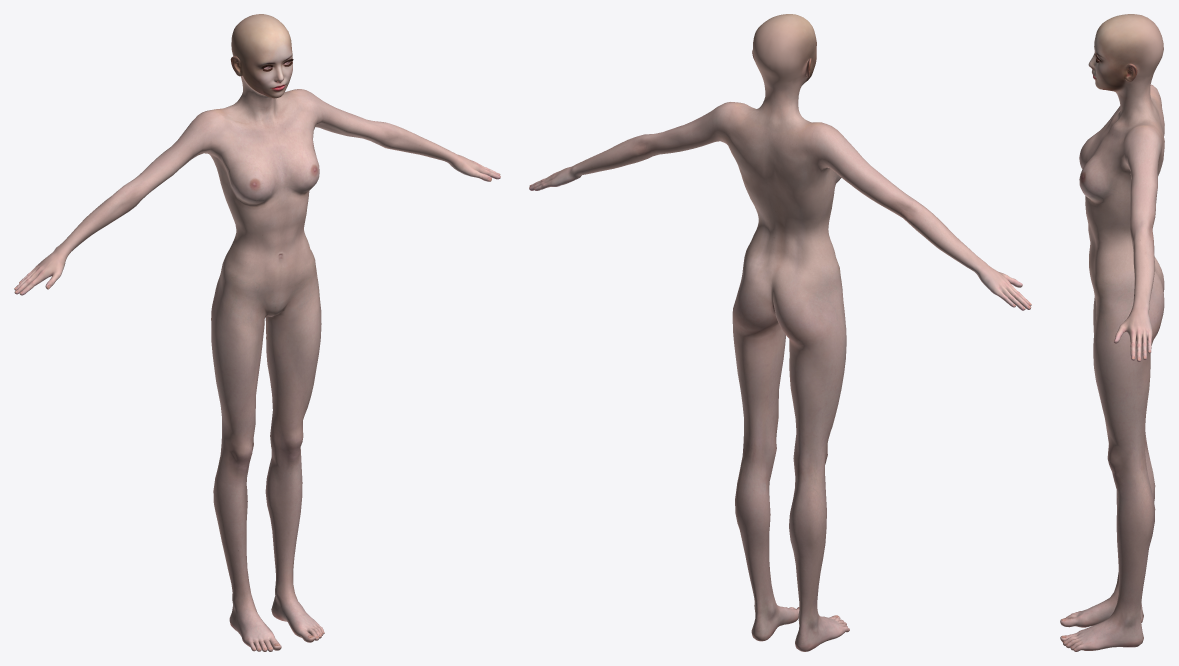
The picture shows the model from 3 angles, left to right: view 1: azimuth 30°, elevation 25°; view 2: azimuth 150°, elevation 25°; view 3: azimuth 270°, elevation 25°; orthographic projection. The views are drawn at different scales.
Visible parts, largest first — view 1: Base_Body; view 2: Base_Body; view 3: Base_Body.
Part boxes in pixels (x1,y1,x2,y2): Base_Body: (14, 14, 500, 651); Base_Body: (529, 14, 1031, 651); Base_Body: (1060, 14, 1164, 651).
Size of the model in its own units: 157 by 187 by 28.73.
